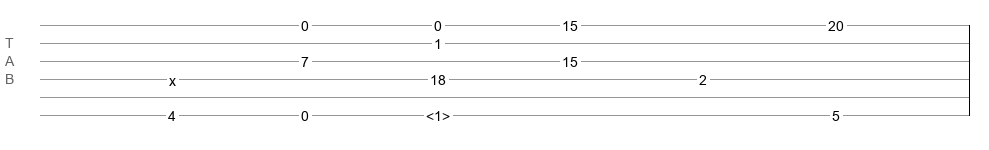0: (301, 18, 309, 28), (301, 108, 309, 118), (434, 18, 442, 28)
1: (434, 36, 442, 46)
15: (562, 18, 578, 28), (562, 54, 578, 64)
18: (430, 72, 446, 82)
2: (699, 72, 707, 82)
20: (828, 18, 844, 28)
4: (168, 108, 176, 118)
5: (832, 108, 840, 118)
7: (301, 54, 309, 64)
harmonic: (426, 108, 450, 118)
x: (169, 73, 176, 81)
